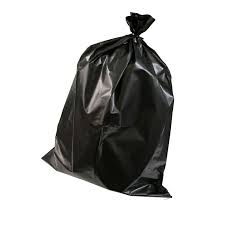Trash: (28, 11, 189, 202)
